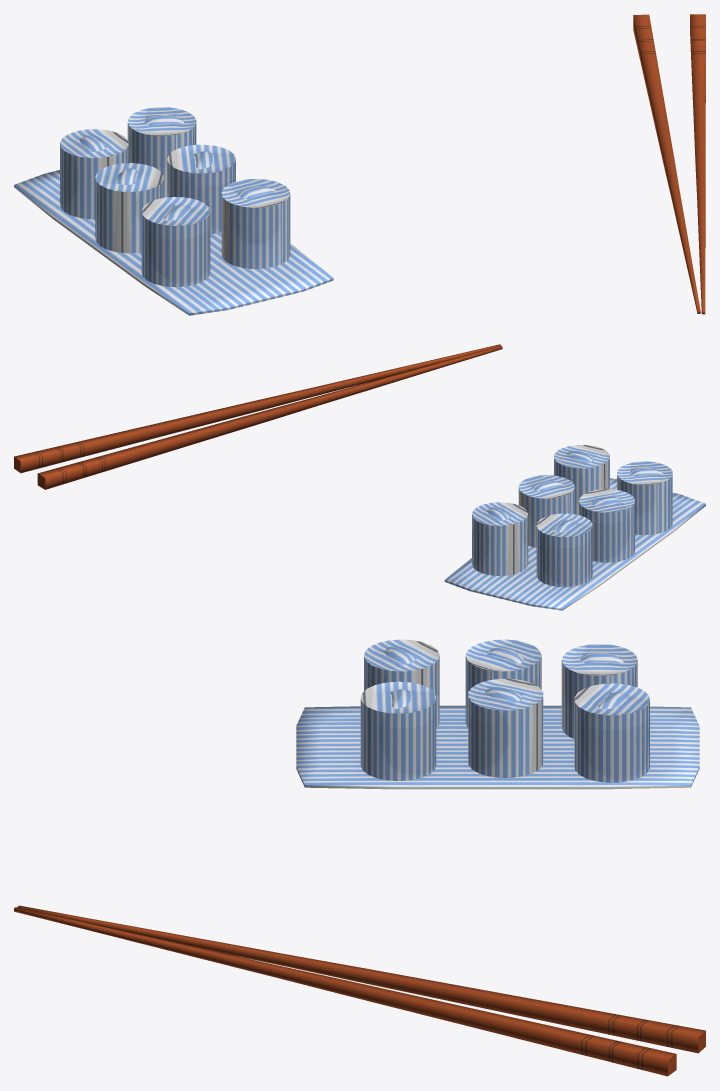
The model's file is rolls_sticks.fbx.
3 views of the same model, one above another, from view 1: azimuth 30°, elevation 25°; view 2: azimuth 150°, elevation 25°; view 3: azimuth 270°, elevation 25° (orthographic). The views are drawn at different scales.
Visible parts, largest first — view 1: cloth_01, sushi_00_5, sushi_00_6, sushi_00_3, sushi_00, chopstick_00, sushi_00_4, sushi_00_2, chopstick_01; view 2: cloth_01, chopstick_01, chopstick_00, sushi_00, sushi_00_2, sushi_00_3, sushi_00_5, sushi_00_4, sushi_00_6; view 3: cloth_01, chopstick_01, chopstick_00, sushi_00_6, sushi_00_2, sushi_00_4, sushi_00, sushi_00_5, sushi_00_3.
Part boxes in pixels (x1=…): cloth_01: x1=14, y1=170, x2=333, y2=315; sushi_00_5: x1=141, y1=197, x2=210, y2=287; sushi_00_6: x1=221, y1=179, x2=290, y2=268; sushi_00_3: x1=95, y1=163, x2=163, y2=253; sushi_00: x1=60, y1=129, x2=128, y2=219; chopstick_00: x1=633, y1=14, x2=700, y2=313; sushi_00_4: x1=167, y1=144, x2=235, y2=234; sushi_00_2: x1=127, y1=107, x2=196, y2=197; chopstick_01: x1=690, y1=14, x2=705, y2=314; cloth_01: x1=444, y1=478, x2=705, y2=610; chopstick_01: x1=14, y1=344, x2=501, y2=473; chopstick_00: x1=37, y1=346, x2=502, y2=489; sushi_00: x1=536, y1=513, x2=592, y2=587; sushi_00_2: x1=472, y1=502, x2=528, y2=575; sushi_00_3: x1=579, y1=489, x2=634, y2=562; sushi_00_5: x1=617, y1=461, x2=672, y2=534; sushi_00_4: x1=518, y1=475, x2=574, y2=547; sushi_00_6: x1=554, y1=445, x2=609, y2=514; cloth_01: x1=296, y1=705, x2=699, y2=789; chopstick_01: x1=14, y1=907, x2=676, y2=1076; chopstick_00: x1=17, y1=905, x2=705, y2=1053; sushi_00_6: x1=360, y1=681, x2=436, y2=780; sushi_00_2: x1=574, y1=683, x2=649, y2=782; sushi_00_4: x1=468, y1=678, x2=543, y2=777; sushi_00: x1=561, y1=644, x2=637, y2=738; sushi_00_5: x1=364, y1=639, x2=439, y2=728; sushi_00_3: x1=465, y1=639, x2=541, y2=727.
Bounding box in the file's own units: 4.17 × 0.4014 × 3.32.
Materials: 1 (1 with a texture image).
